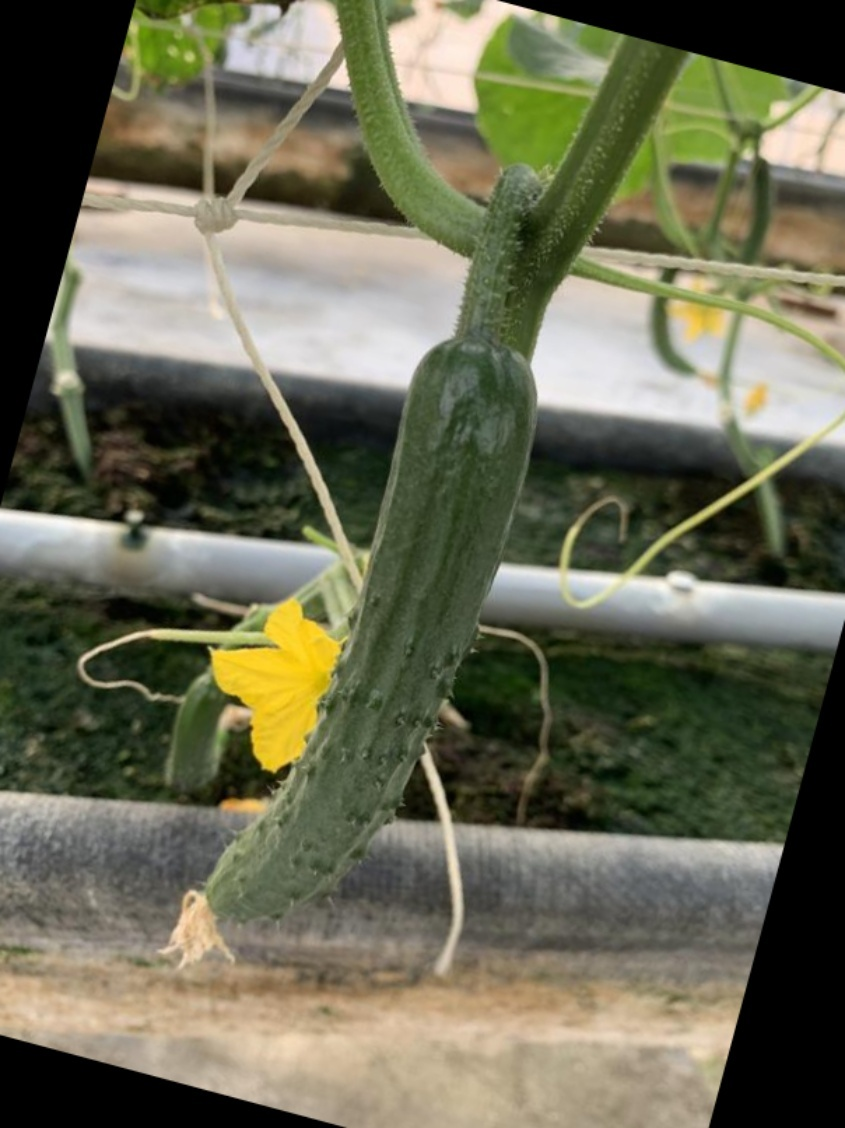mature: (186, 318, 554, 972)
